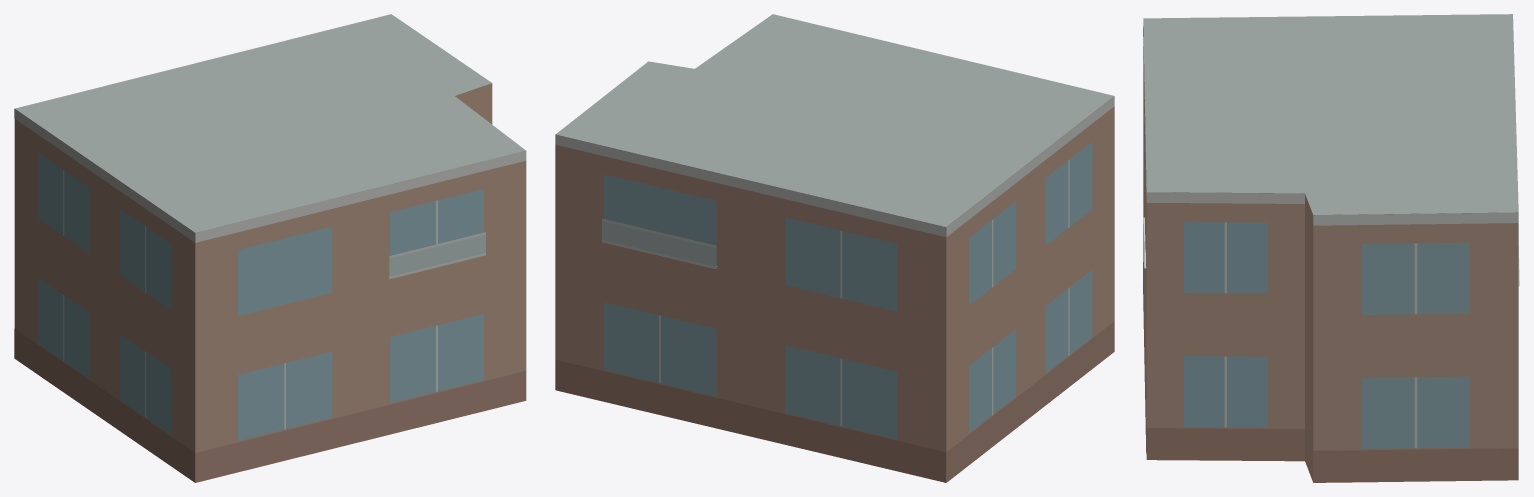
File: survey-upis-32509518.glb
The picture shows the model from 3 angles, left to right: view 1: azimuth 30°, elevation 25°; view 2: azimuth 150°, elevation 25°; view 3: azimuth 270°, elevation 25°; orthographic projection. The views are drawn at different scales.
Visible parts, largest first — view 1: survey-upis-32509518.tmp; view 2: survey-upis-32509518.tmp; view 3: survey-upis-32509518.tmp.
Part boxes in pixels (box(x1,y1,x2,y2)): survey-upis-32509518.tmp: box(14, 14, 526, 482); survey-upis-32509518.tmp: box(555, 14, 1114, 482); survey-upis-32509518.tmp: box(1143, 14, 1519, 482).
Size of the model in its own units: 9.83 by 6.1 by 7.78.
